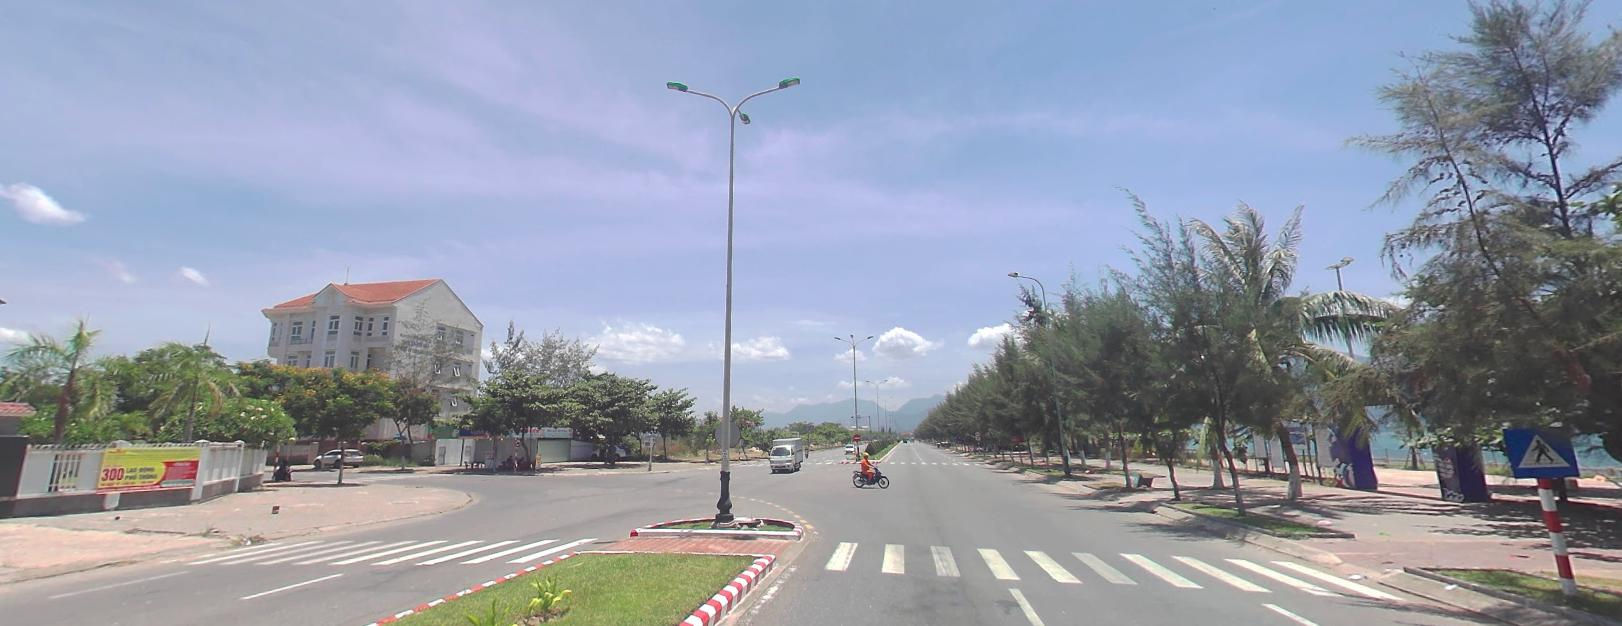Cam nguoc chieu: (853, 433, 861, 441)
